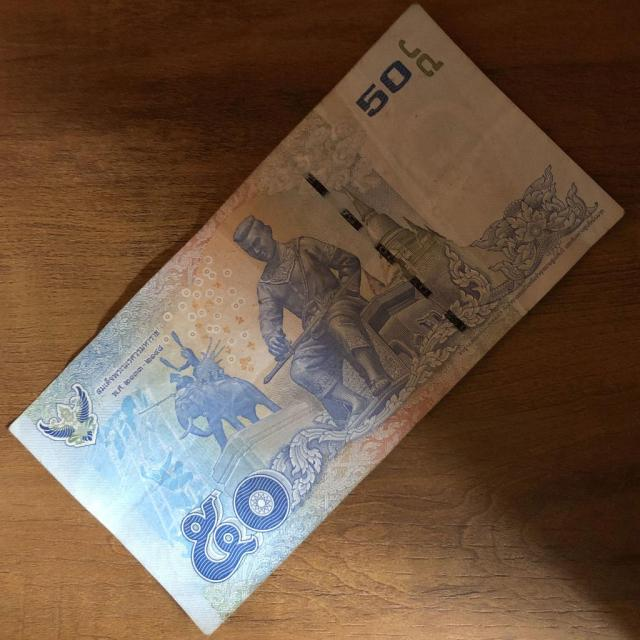THAI50: (11, 6, 622, 633)
